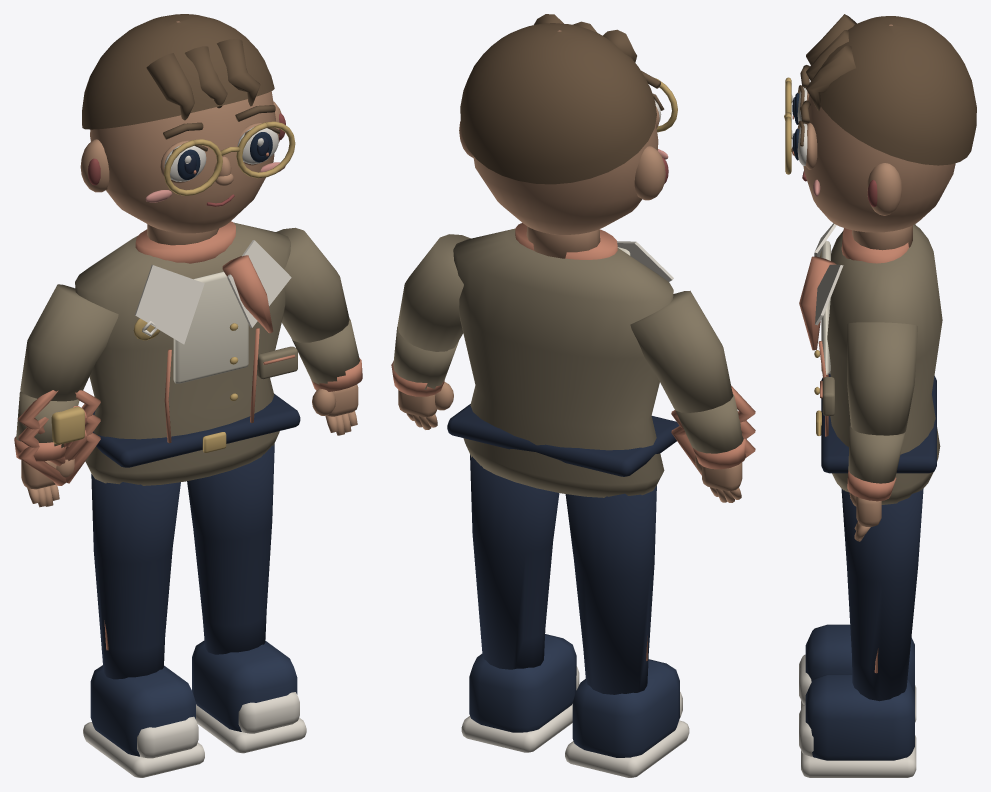
File: npc_pirateshore_lieutenant_3.glb
The picture shows the model from 3 angles, left to right: view 1: azimuth 30°, elevation 25°; view 2: azimuth 150°, elevation 25°; view 3: azimuth 270°, elevation 25°; orthographic projection.
Visible parts, largest first — view 1: figure.048; view 2: figure.048; view 3: figure.048.
Boxes of the visible parts, x1=… form: figure.048: x1=14, y1=14, x2=362, y2=777; figure.048: x1=391, y1=14, x2=755, y2=777; figure.048: x1=784, y1=14, x2=976, y2=777.
Bounding box in the file's own units: 0.8835 × 1.72 × 0.4214.
